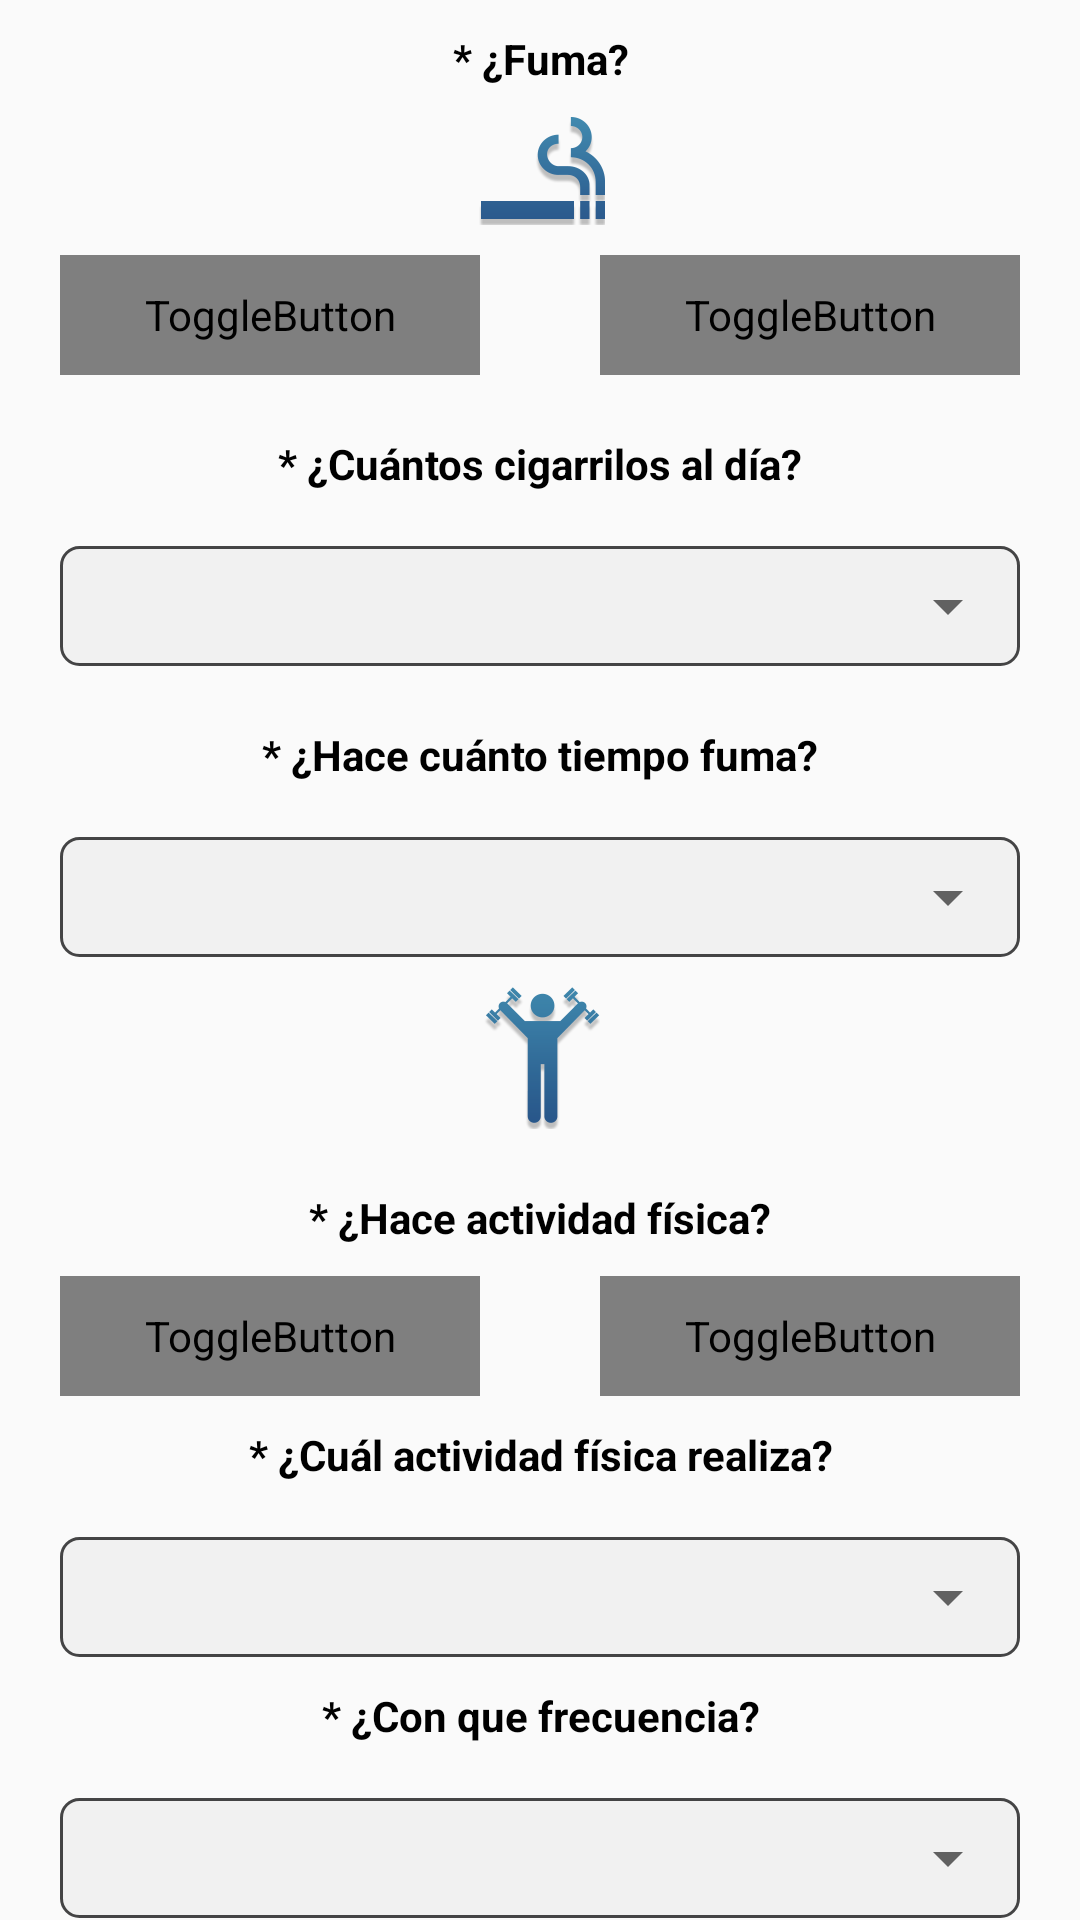

Icon click points for this 1080px×1920px phone screenshot, format [x,y]:
dumbbells exercise: [542,1058]
smoking: [543,171]
